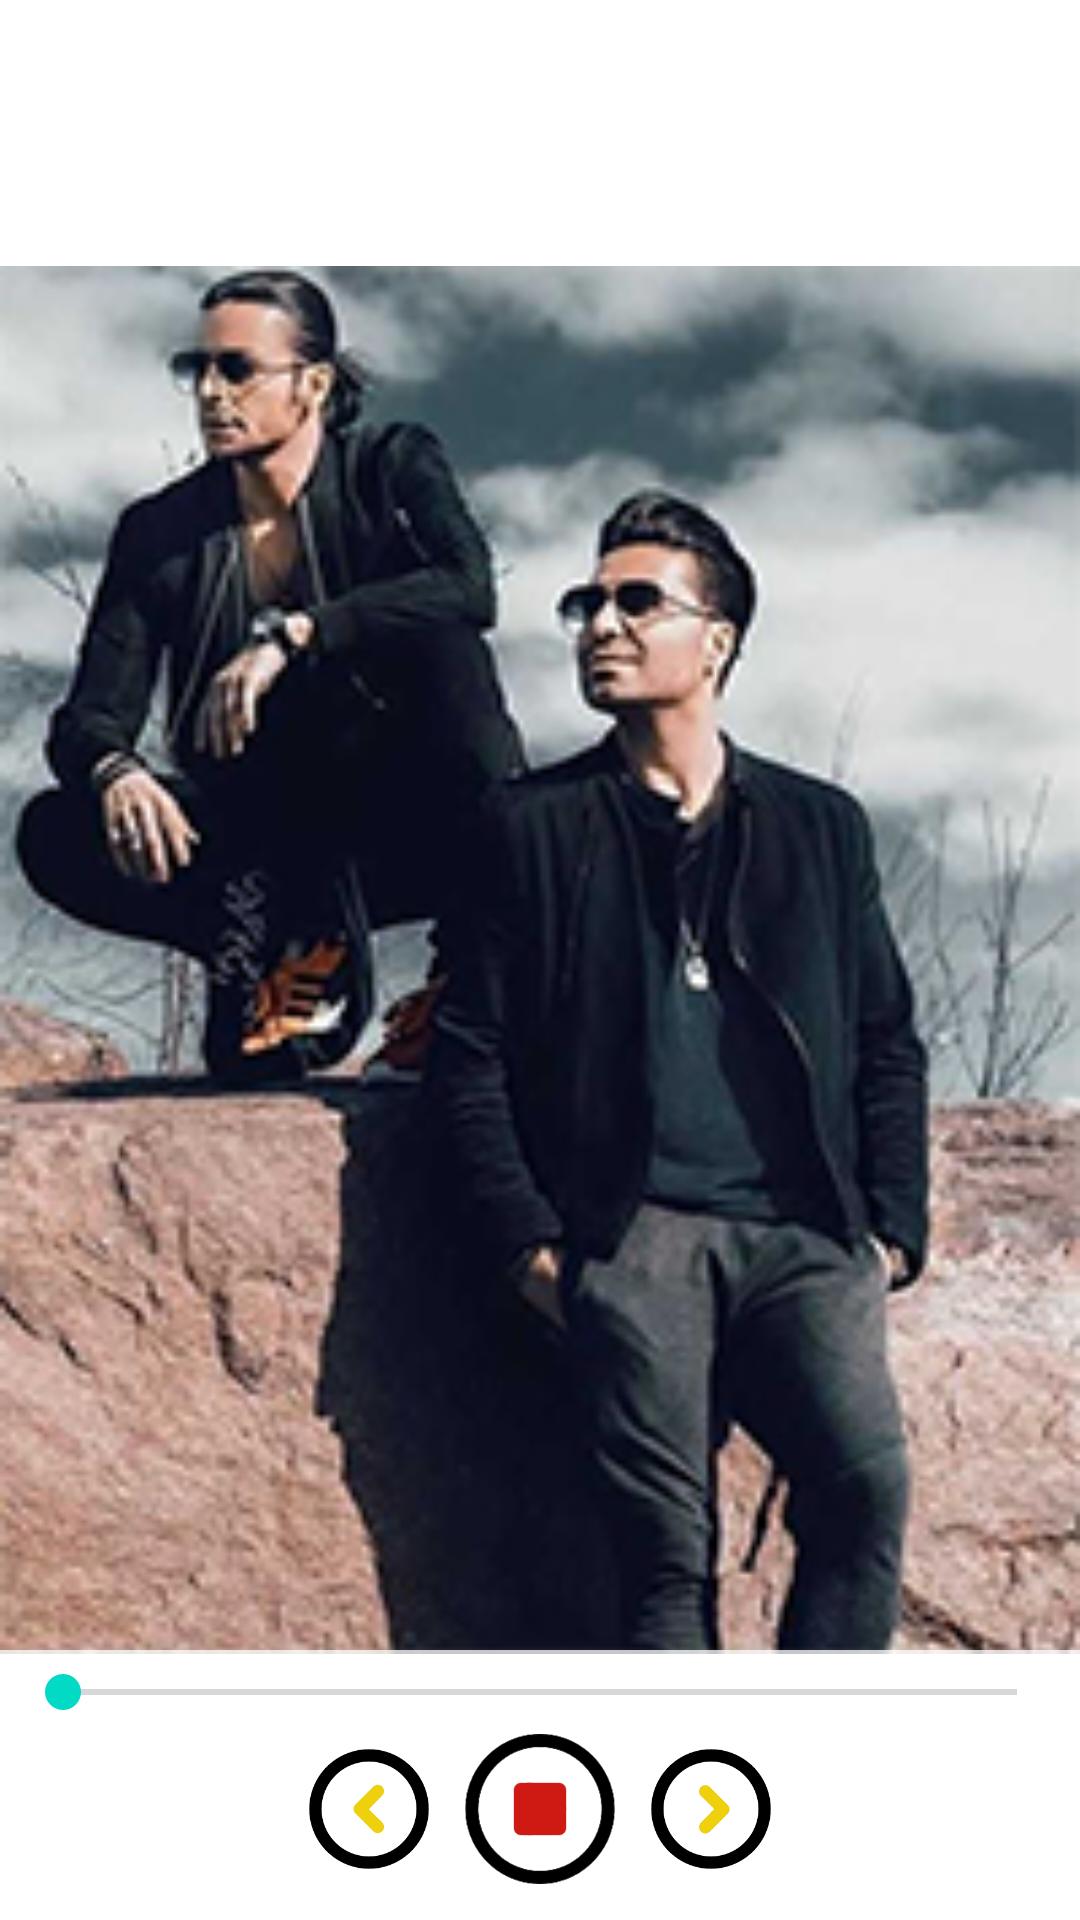

Icons on this 1080*1920 Android screen, each with its box as (left=x1, top=y1, right=x2, bottom=y2):
next: (left=651, top=1749, right=771, bottom=1869)
prev: (left=309, top=1749, right=429, bottom=1869)
